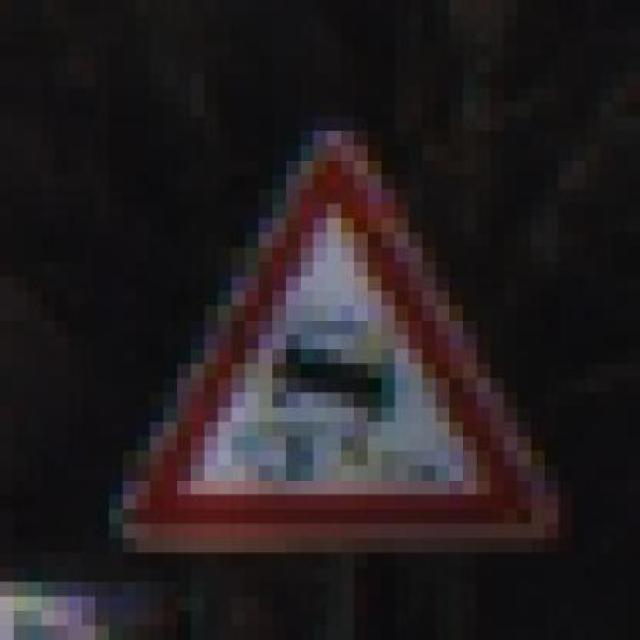Slippery Road Ahead: (95, 116, 572, 567)
